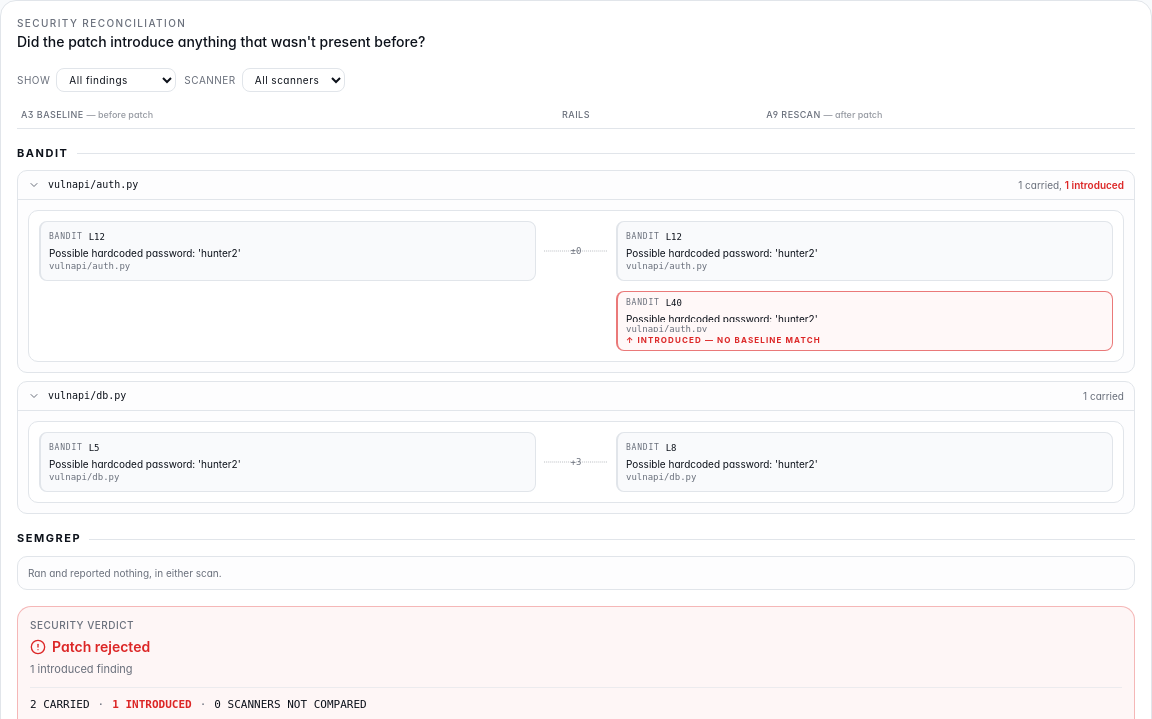
Test case: SecurityRescanPanel — the verdict bar › keeps its counts when a filter hides part of the ledger
Select "Introduced only" in the dropdown named "filter findings" at (116,80), box [56,68,176,92]
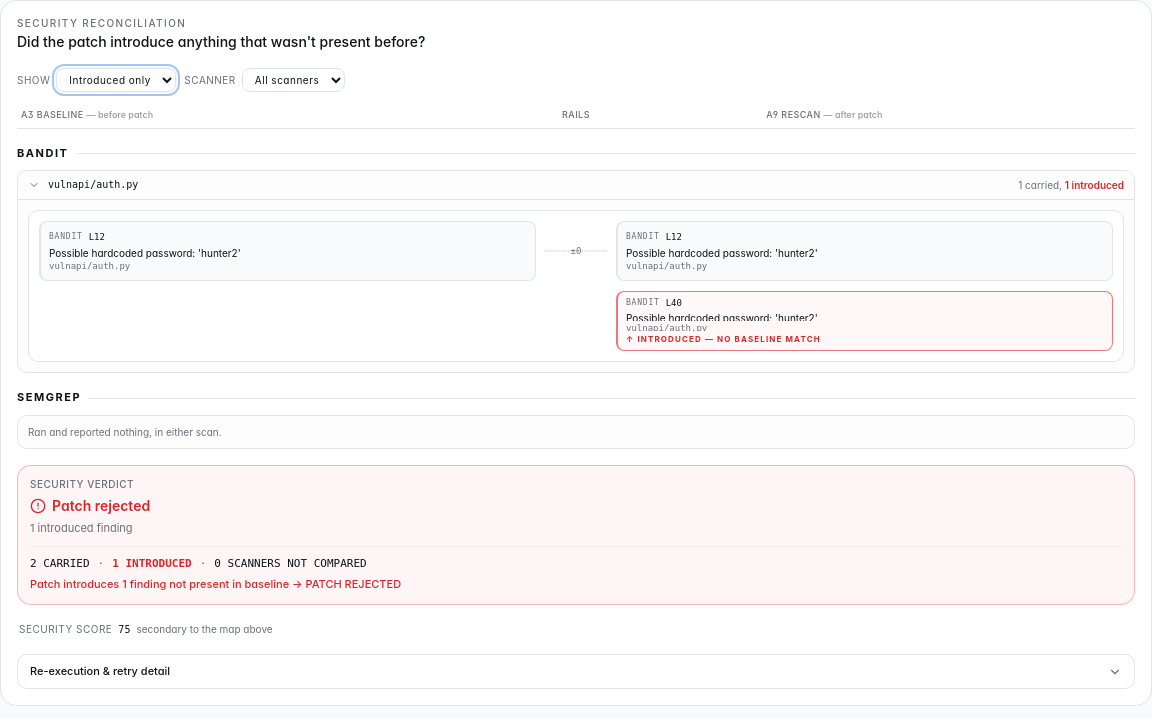
Check: the button with aria-label "introduced bandit finding" is shown, box [616,292,1113,352]
Check: the button "vulnapi/db.py" is gone
